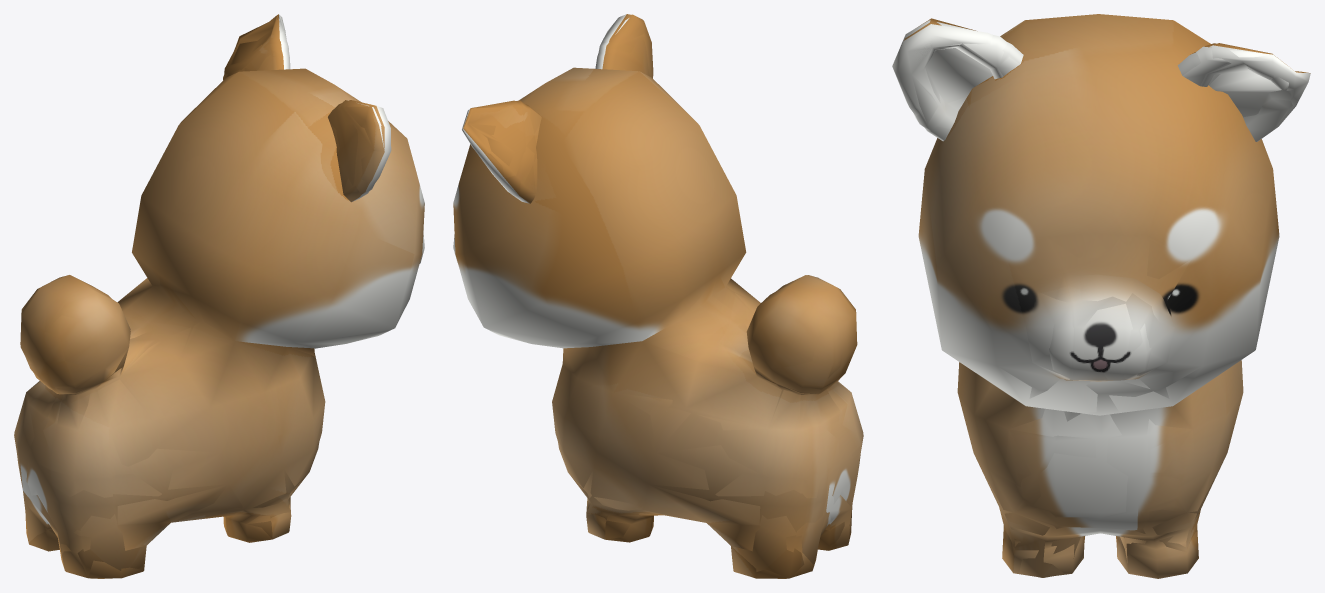
File: Shiba Plushie.fbx
3 views of the same model, side by side, from view 1: azimuth 30°, elevation 25°; view 2: azimuth 150°, elevation 25°; view 3: azimuth 270°, elevation 25° (orthographic). The views are drawn at different scales.
Visible parts, largest first — view 1: Shiba Plushie, Shiba PlushieLOD; view 2: Shiba Plushie, Shiba PlushieLOD; view 3: Shiba Plushie, Shiba PlushieLOD.
Boxes of the visible parts, x1,y1,x2,y2 form: Shiba Plushie: (14, 14, 424, 578); Shiba PlushieLOD: (14, 14, 424, 578); Shiba Plushie: (453, 14, 863, 578); Shiba PlushieLOD: (453, 14, 863, 578); Shiba Plushie: (892, 14, 1310, 577); Shiba PlushieLOD: (894, 14, 1307, 578).
Size of what is drawn, in the model's own units: 121 by 172 by 189.
